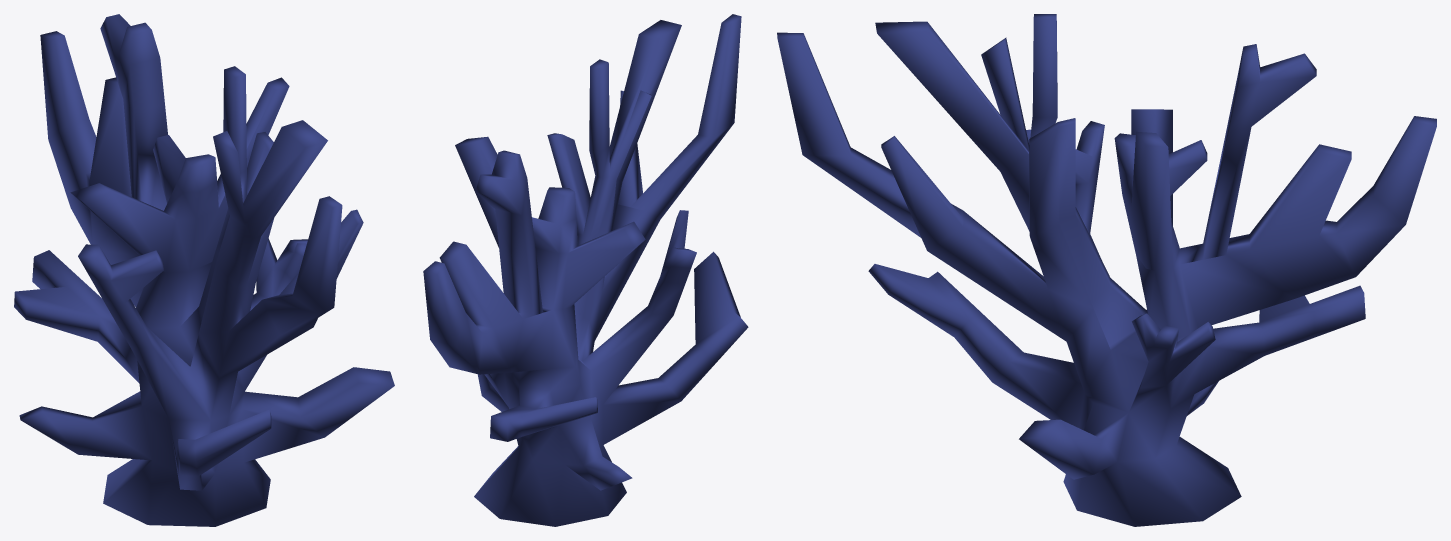
File: G_Coral_Blue.gltf
3 views of the same model, side by side, from view 1: azimuth 30°, elevation 25°; view 2: azimuth 150°, elevation 25°; view 3: azimuth 270°, elevation 25° (orthographic). The views are drawn at different scales.
Visible parts, largest first — view 1: Cylinder; view 2: Cylinder; view 3: Cylinder.
Boxes of the visible parts, <box> form: Cylinder: <box>14,14,394,526</box>; Cylinder: <box>423,14,748,526</box>; Cylinder: <box>777,14,1436,526</box>.
Size of the model in its own units: 2.14 by 3.25 by 4.13.
